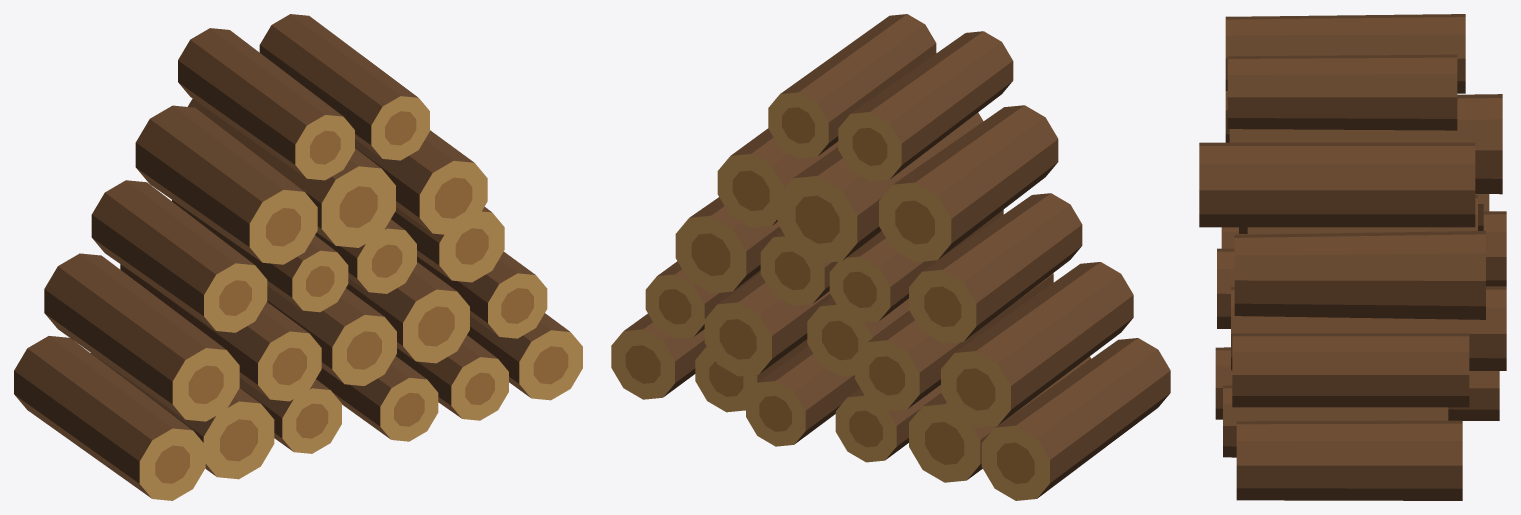
Rendered from wood.glb.
3 views of the same model, side by side, from view 1: azimuth 30°, elevation 25°; view 2: azimuth 150°, elevation 25°; view 3: azimuth 270°, elevation 25° (orthographic). The views are drawn at different scales.
Visible parts, largest first — view 1: building_wood_stack; view 2: building_wood_stack; view 3: building_wood_stack.
Boxes of the visible parts, x1,y1,x2,y2 form: building_wood_stack: (14, 14, 582, 500); building_wood_stack: (611, 14, 1170, 500); building_wood_stack: (1199, 14, 1506, 500).
Bounding box in the file's own units: 0.75 × 0.5588 × 0.4237.
